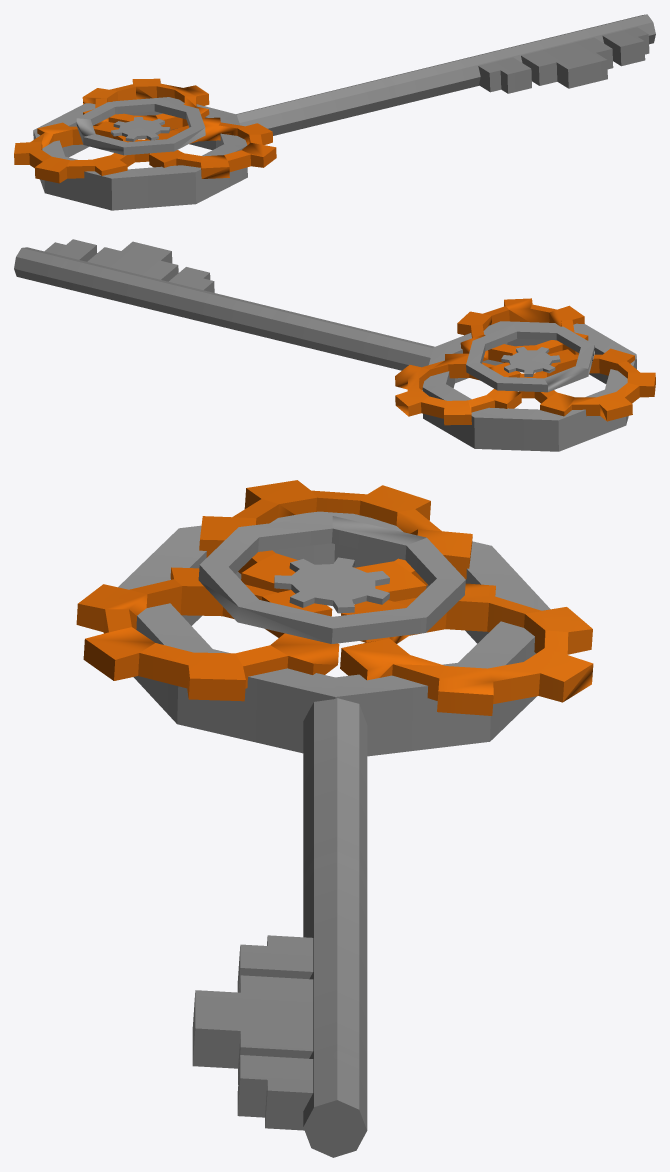
Rendered from Chest Gear Key.glb.
The picture shows the model from 3 angles, top to bottom: view 1: azimuth 30°, elevation 25°; view 2: azimuth 150°, elevation 25°; view 3: azimuth 270°, elevation 25°; orthographic projection. The views are drawn at different scales.
Parts seen in each view (by area): view 1: ChestGearKey; view 2: ChestGearKey; view 3: ChestGearKey.
Boxes of the visible parts, x1,y1,x2,y2 form: ChestGearKey: (14,14,655,210); ChestGearKey: (14,239,655,451); ChestGearKey: (76,480,593,1157).
Size of what is drawn, in the model's own units: 1.08 by 0.0945 by 0.3872.
1 material, 1 textured.
